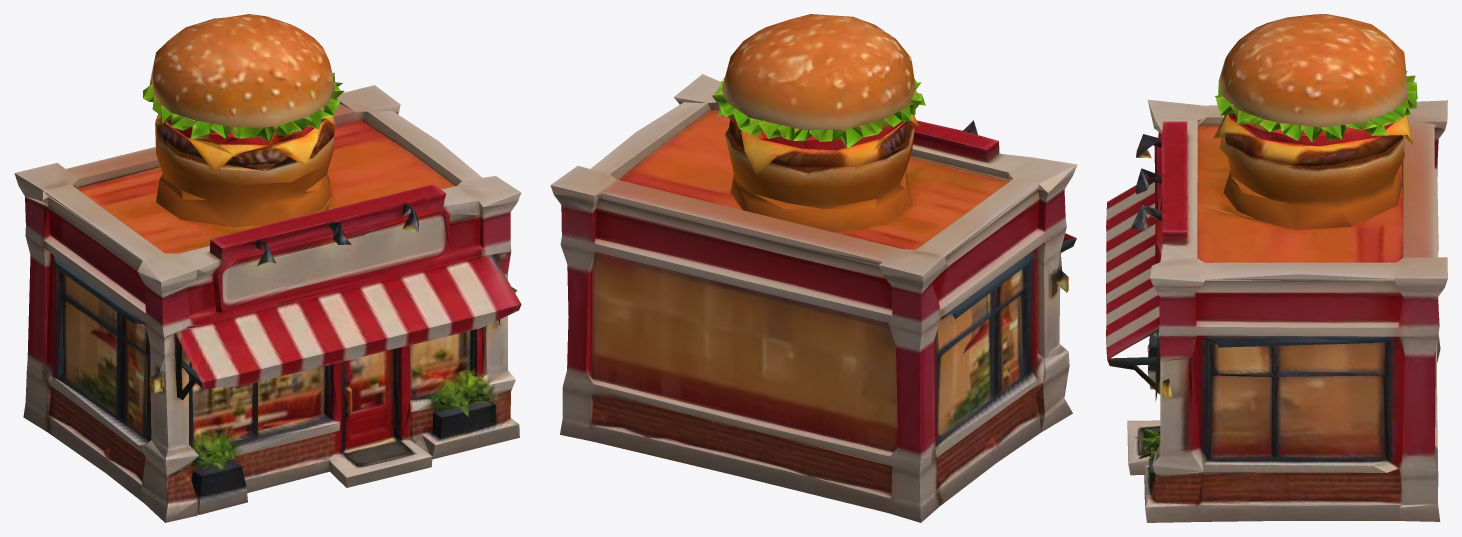
Rendered from burgerShopI.glb.
The picture shows the model from 3 angles, left to right: view 1: azimuth 30°, elevation 25°; view 2: azimuth 150°, elevation 25°; view 3: azimuth 270°, elevation 25°; orthographic projection. The views are drawn at different scales.
Visible parts, largest first — view 1: model; view 2: model; view 3: model.
Boxes of the visible parts, left/top/right/bottom form: model: left=14, top=14, right=521, bottom=522; model: left=550, top=14, right=1077, bottom=522; model: left=1106, top=14, right=1447, bottom=522.
Size of the model in its own units: 1.85 by 1.9 by 1.47.
Materials: 1 (1 with a texture image).
